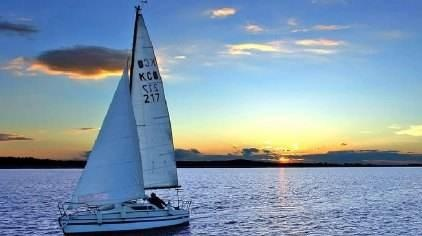fanchuan: (58, 3, 191, 234)
